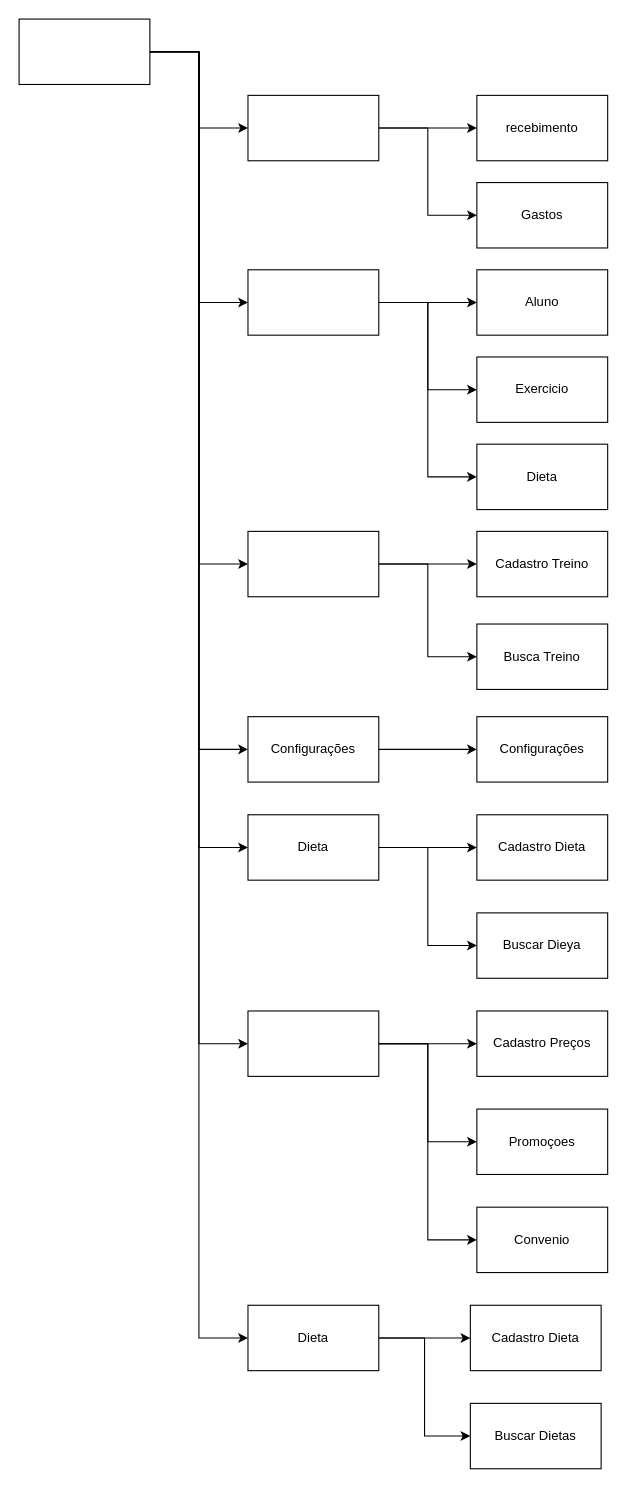
The diagram is 627 pixels wide and 1488 high, and some of its shapes have lost their labels. The box of each missing label's shape, as (x1, y1, x2, y2) in pixels:
academia: (18, 18, 150, 84)
Cadastros: (247, 269, 379, 335)
finaceiro: (247, 94, 379, 161)
Preços: (247, 1010, 379, 1076)
Treino: (247, 530, 379, 597)
